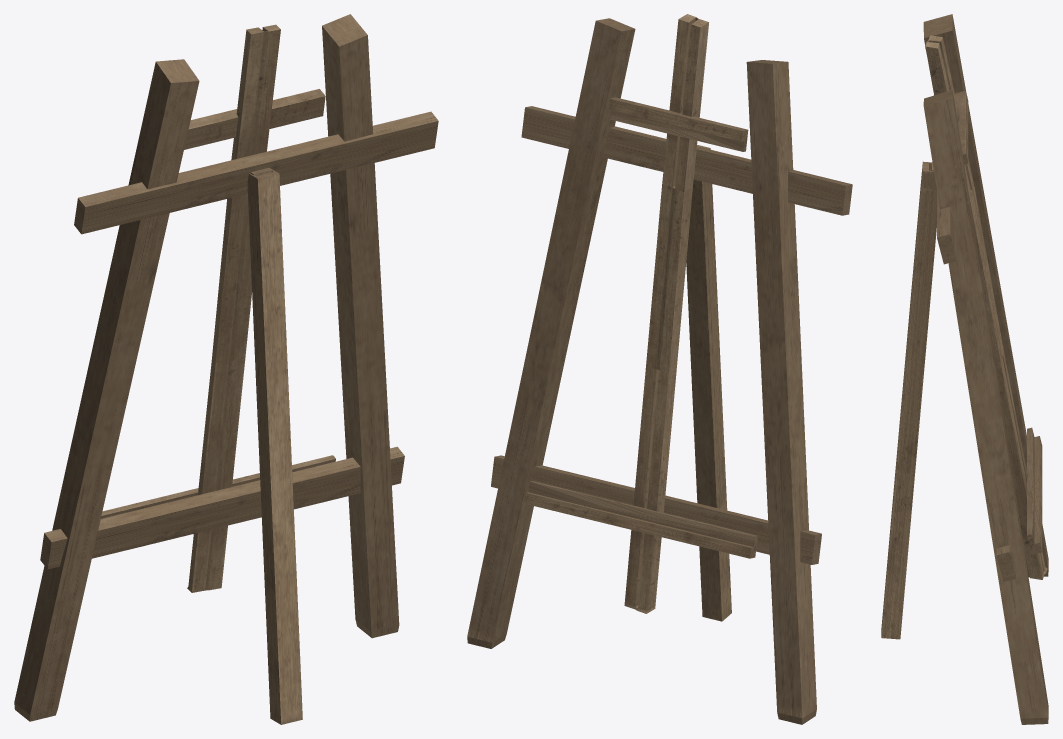
Rendered from cavalete_TEXTURIZADO 1.fbx.
3 views of the same model, side by side, from view 1: azimuth 30°, elevation 25°; view 2: azimuth 150°, elevation 25°; view 3: azimuth 270°, elevation 25° (orthographic). The views are drawn at different scales.
Parts seen in each view (by area): view 1: Cube.075; view 2: Cube.075; view 3: Cube.075.
Part boxes in pixels (box(x1,y1,x2,y2)): Cube.075: box(14, 14, 438, 724); Cube.075: box(467, 14, 852, 724); Cube.075: box(881, 14, 1048, 724).
Bounding box in the file's own units: 85.96 × 152 × 38.19.
1 material, 1 textured.
